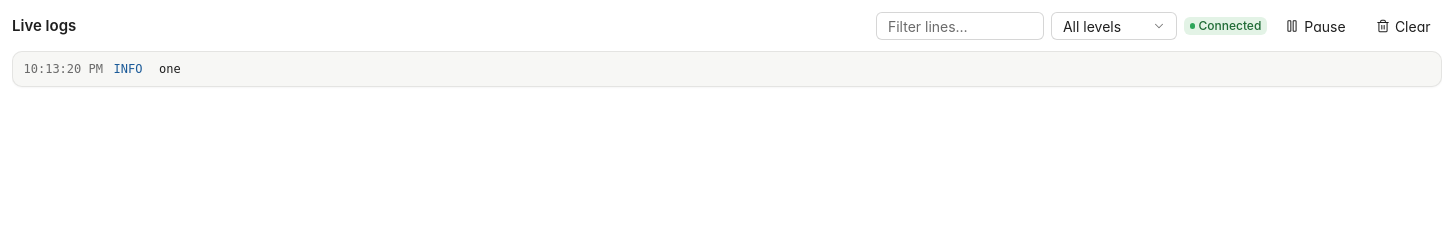
Test: LogsView › clear empties the view
The image size is (1452, 236).
Click the button "Clear" at (1403, 26), box top-left (1364, 12), bottom-right (1442, 40)
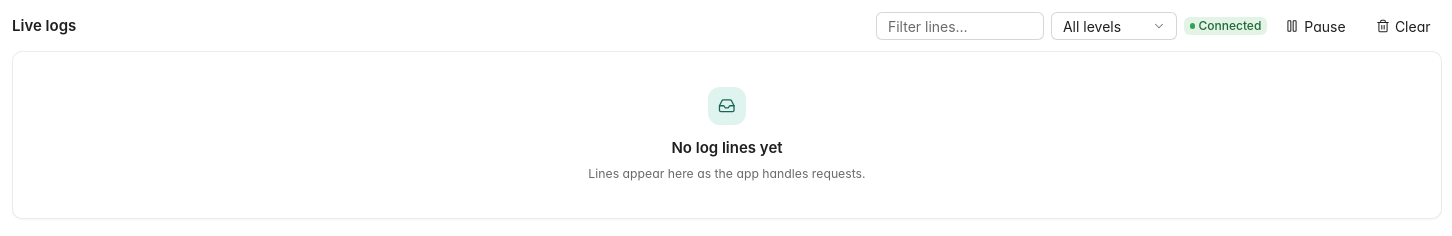
Check: the text "one" is gone
